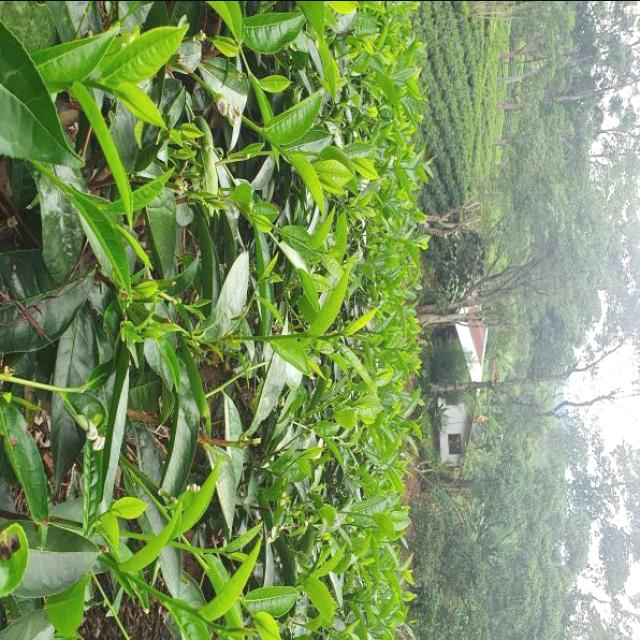Stem: (86, 80, 93, 87), (158, 593, 164, 600), (300, 333, 307, 337), (193, 547, 200, 551), (256, 127, 261, 131), (365, 513, 370, 516)
